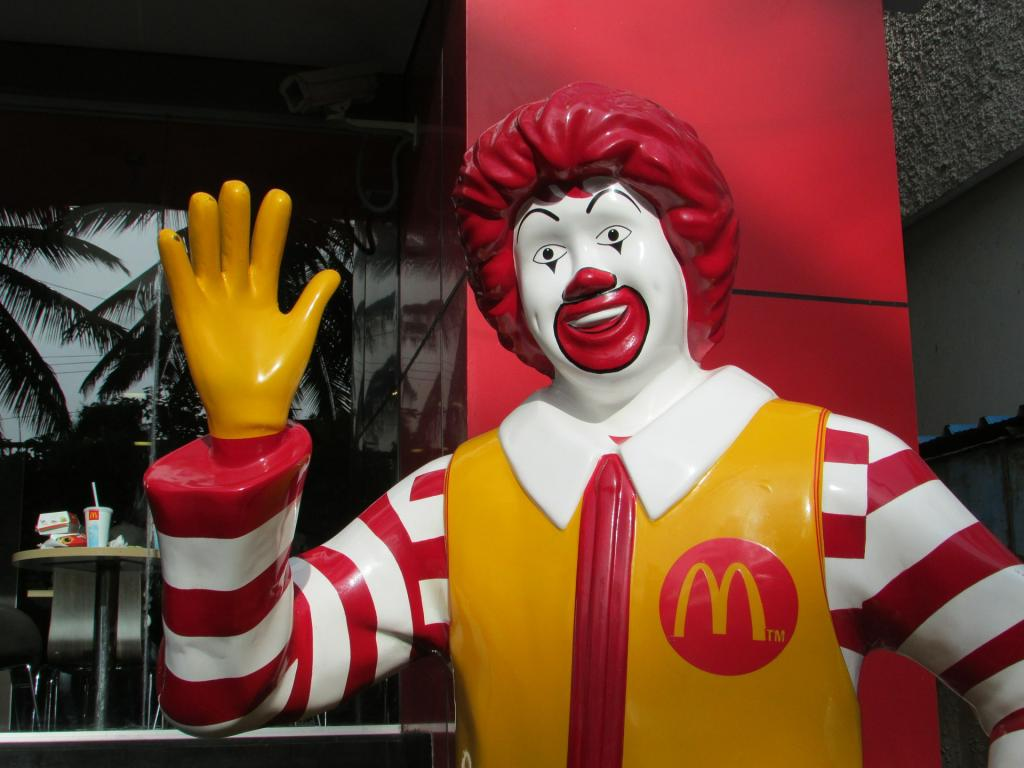mcdonalds: (669, 557, 773, 648)
